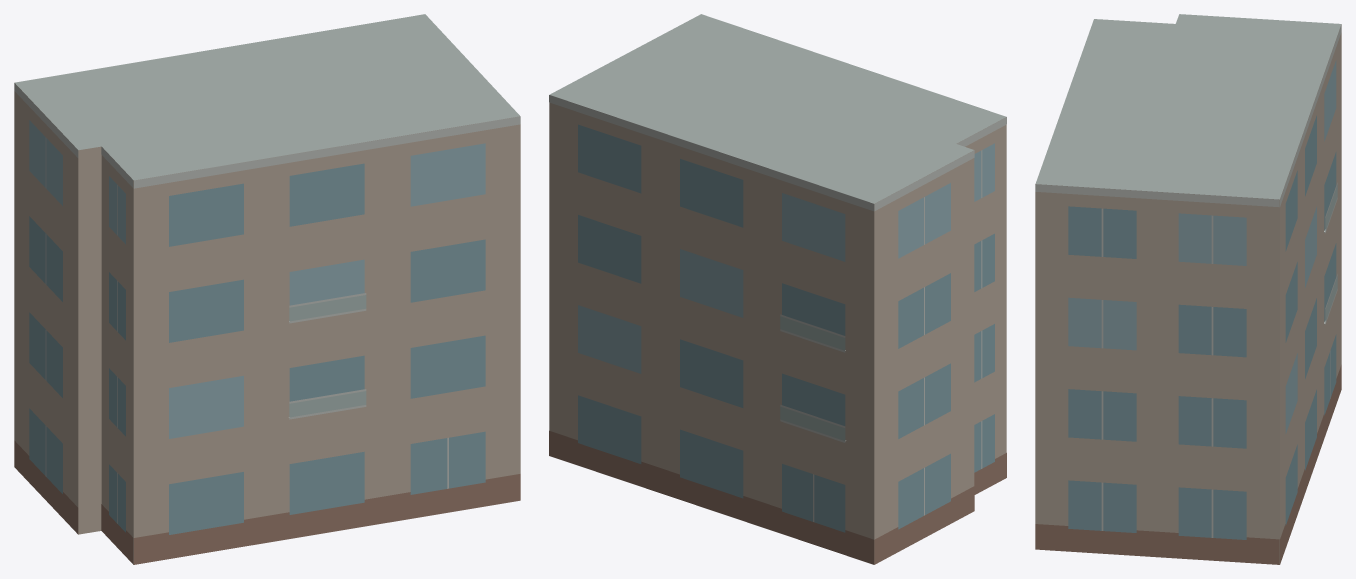
The model's file is survey-upis-32494116.glb.
The picture shows the model from 3 angles, left to right: view 1: azimuth 30°, elevation 25°; view 2: azimuth 150°, elevation 25°; view 3: azimuth 270°, elevation 25°; orthographic projection. The views are drawn at different scales.
Visible parts, largest first — view 1: survey-upis-32494116.tmp; view 2: survey-upis-32494116.tmp; view 3: survey-upis-32494116.tmp.
Part boxes in pixels (<box>): survey-upis-32494116.tmp: <box>14,14,520,564</box>; survey-upis-32494116.tmp: <box>549,14,1006,564</box>; survey-upis-32494116.tmp: <box>1035,14,1341,564</box>.
Bounding box in the file's own units: 12.53 × 11.5 × 8.74.
